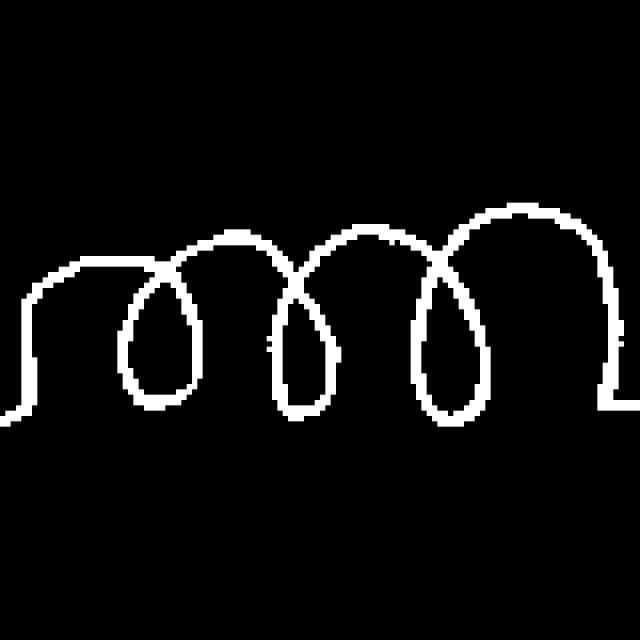inductor: (16, 186, 636, 455)
